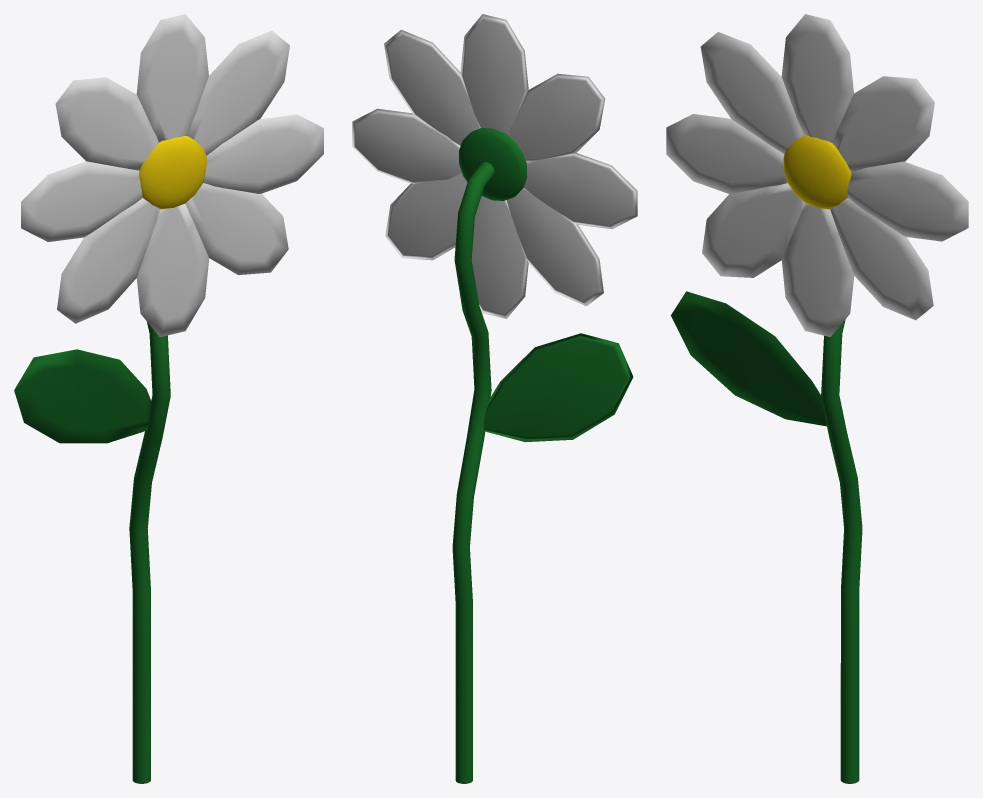
The model's file is Flower_v3.1.FBX.
The picture shows the model from 3 angles, left to right: view 1: azimuth 30°, elevation 25°; view 2: azimuth 150°, elevation 25°; view 3: azimuth 330°, elevation 25°; orthographic projection. The views are drawn at different scales.
Visible parts, largest first — view 1: petals, Leaf, Cylinder001, core; view 2: petals, Leaf, Cylinder001, core; view 3: petals, Leaf, Cylinder001, core.
Boxes of the visible parts, <box> form: petals: <box>21,14,323,337</box>; Leaf: <box>14,349,151,443</box>; Cylinder001: <box>129,322,170,783</box>; core: <box>139,136,206,209</box>; petals: <box>352,14,637,318</box>; Leaf: <box>484,333,633,442</box>; Cylinder001: <box>452,162,494,783</box>; core: <box>459,128,526,200</box>; petals: <box>666,14,968,336</box>; Leaf: <box>671,291,826,426</box>; Cylinder001: <box>821,319,862,783</box>; core: <box>783,135,851,209</box>.
Bounding box in the file's own units: 2.01 × 4.97 × 0.5136.
